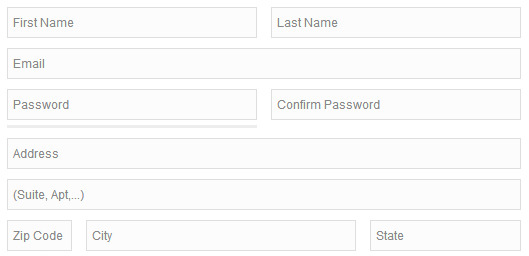field: (5, 137, 523, 170), (6, 47, 521, 80), (6, 179, 523, 211), (86, 220, 357, 252), (6, 88, 258, 121), (6, 6, 257, 38), (270, 6, 521, 38), (270, 89, 522, 120), (369, 220, 522, 251), (6, 219, 73, 251)
